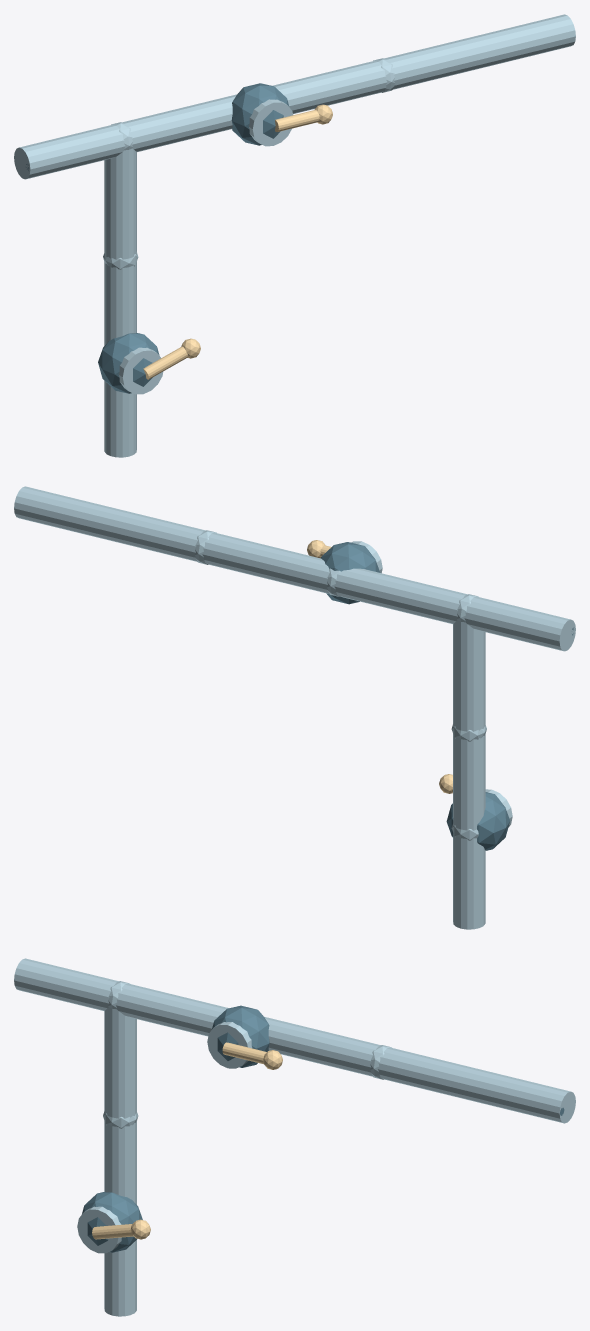
File: water-11-0.glb
The picture shows the model from 3 angles, top to bottom: view 1: azimuth 30°, elevation 25°; view 2: azimuth 150°, elevation 25°; view 3: azimuth 330°, elevation 25°; orthographic projection.
Visible parts, largest first — view 1: pipe, dark, handle; view 2: pipe, dark; view 3: pipe, dark, handle.
Part boxes in pixels (<box>): pipe: <box>14,14,575,457</box>; dark: <box>26,83,289,393</box>; handle: <box>143,104,332,379</box>; pipe: <box>14,486,575,929</box>; dark: <box>321,542,574,850</box>; pipe: <box>14,958,575,1316</box>; dark: <box>82,1005,564,1252</box>; handle: <box>92,1042,282,1239</box>.
Bounding box in the file's own units: 2.77 × 1.65 × 0.343.
